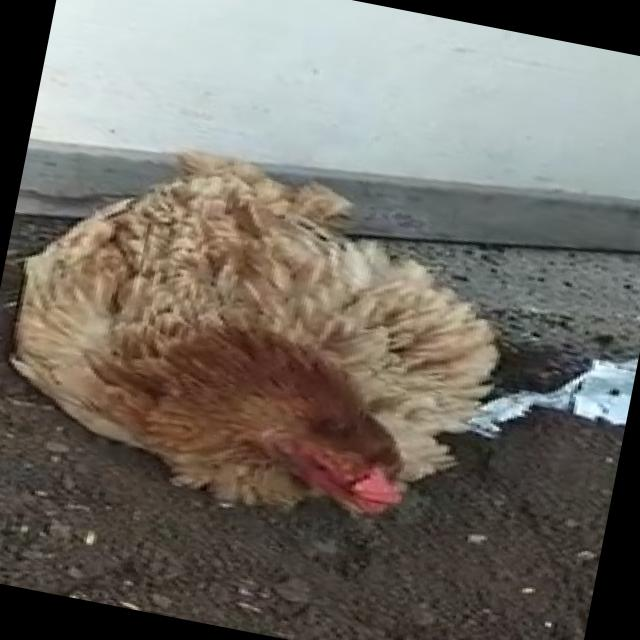stand bath: (0, 90, 570, 565)
